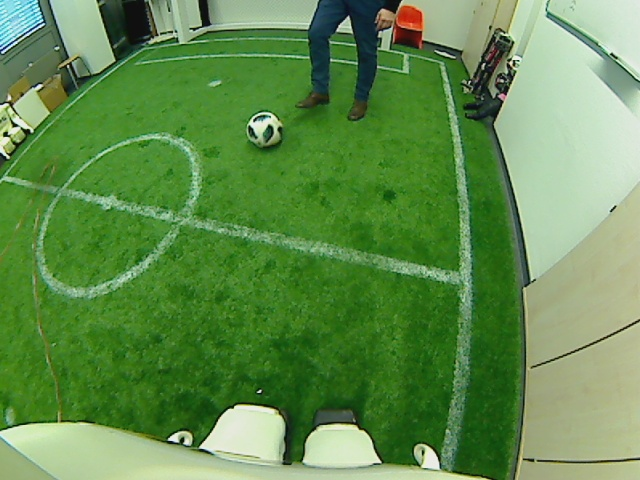ball: (244, 110, 284, 148)
